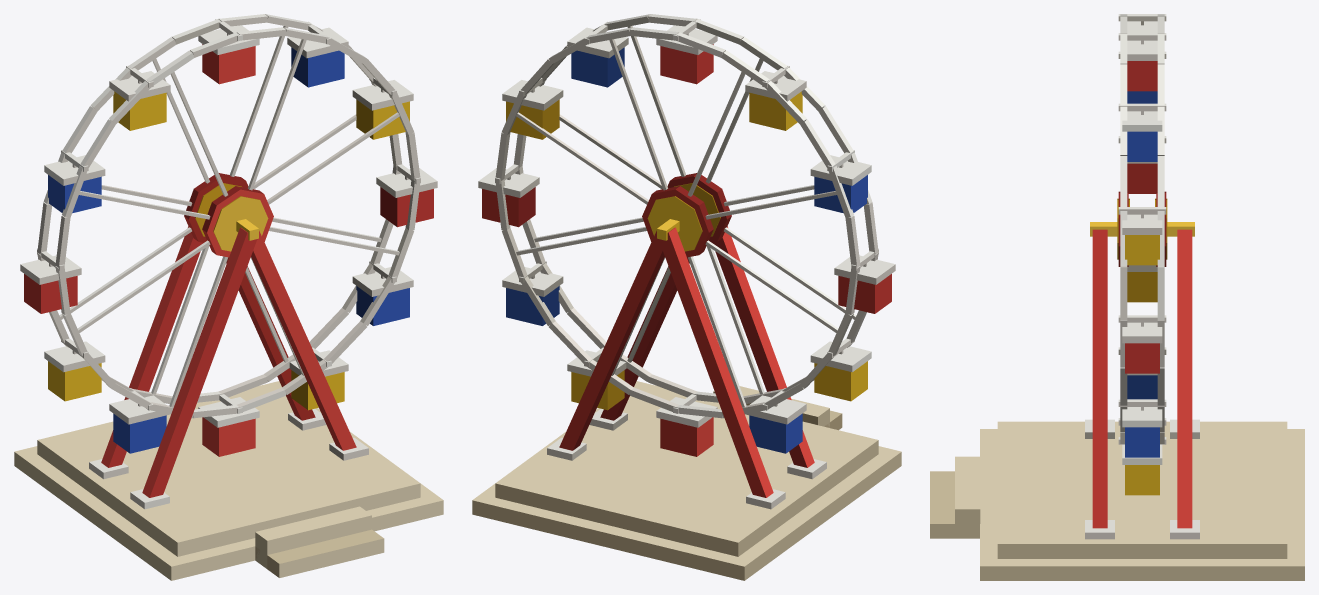
Rendered from landmark-far.glb.
3 renders of one model, left to right at view 1: azimuth 30°, elevation 25°; view 2: azimuth 150°, elevation 25°; view 3: azimuth 270°, elevation 25°, orthographic. The views are drawn at different scales.
Visible parts, largest first — view 1: ferris-far; view 2: ferris-far; view 3: ferris-far.
Part boxes in pixels (<box>): ferris-far: <box>14,14,443,580</box>; ferris-far: <box>472,14,901,580</box>; ferris-far: <box>930,14,1304,580</box>.
Size of the model in its own units: 38 by 42.27 by 30.
1 material, 1 textured.
